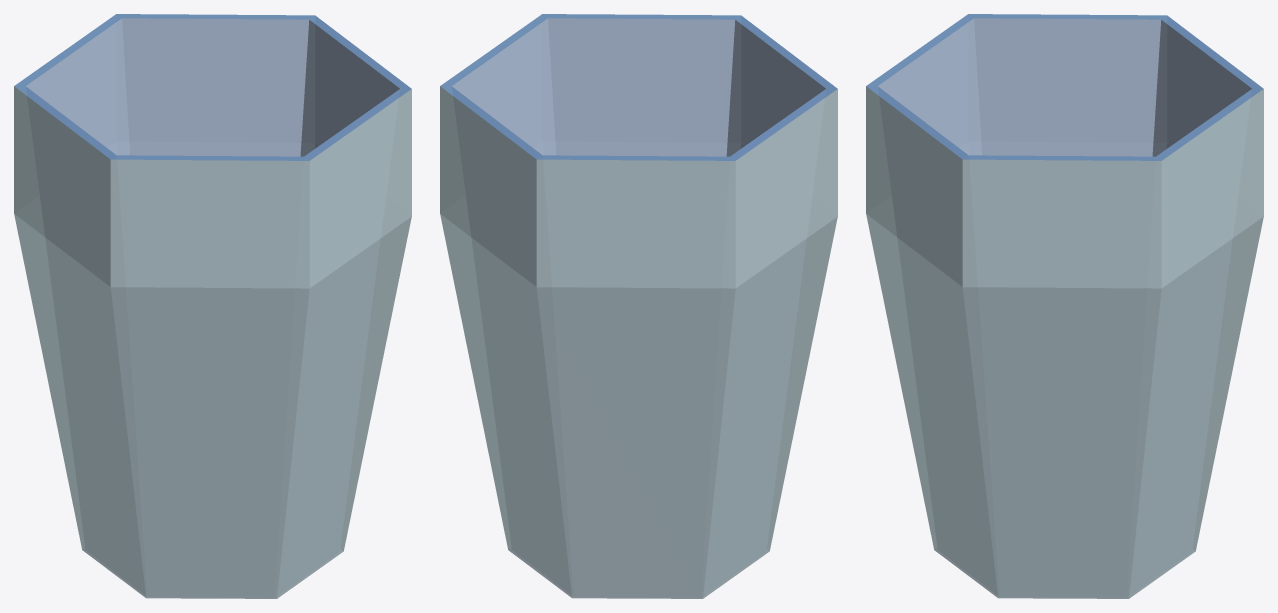
The model's file is Cup1.dae.
3 renders of one model, left to right at view 1: azimuth 30°, elevation 25°; view 2: azimuth 150°, elevation 25°; view 3: azimuth 270°, elevation 25°, orthographic.
Parts seen in each view (by area): view 1: SketchUp (×3); view 2: SketchUp (×3); view 3: SketchUp (×3).
Boxes of the visible parts, bbox=[...] form: SketchUp (×3): bbox=[14, 14, 411, 598]; SketchUp (×3): bbox=[440, 14, 837, 598]; SketchUp (×3): bbox=[866, 14, 1263, 598].
Size of the model in its own units: 59.98 by 68.62 by 88.17.
